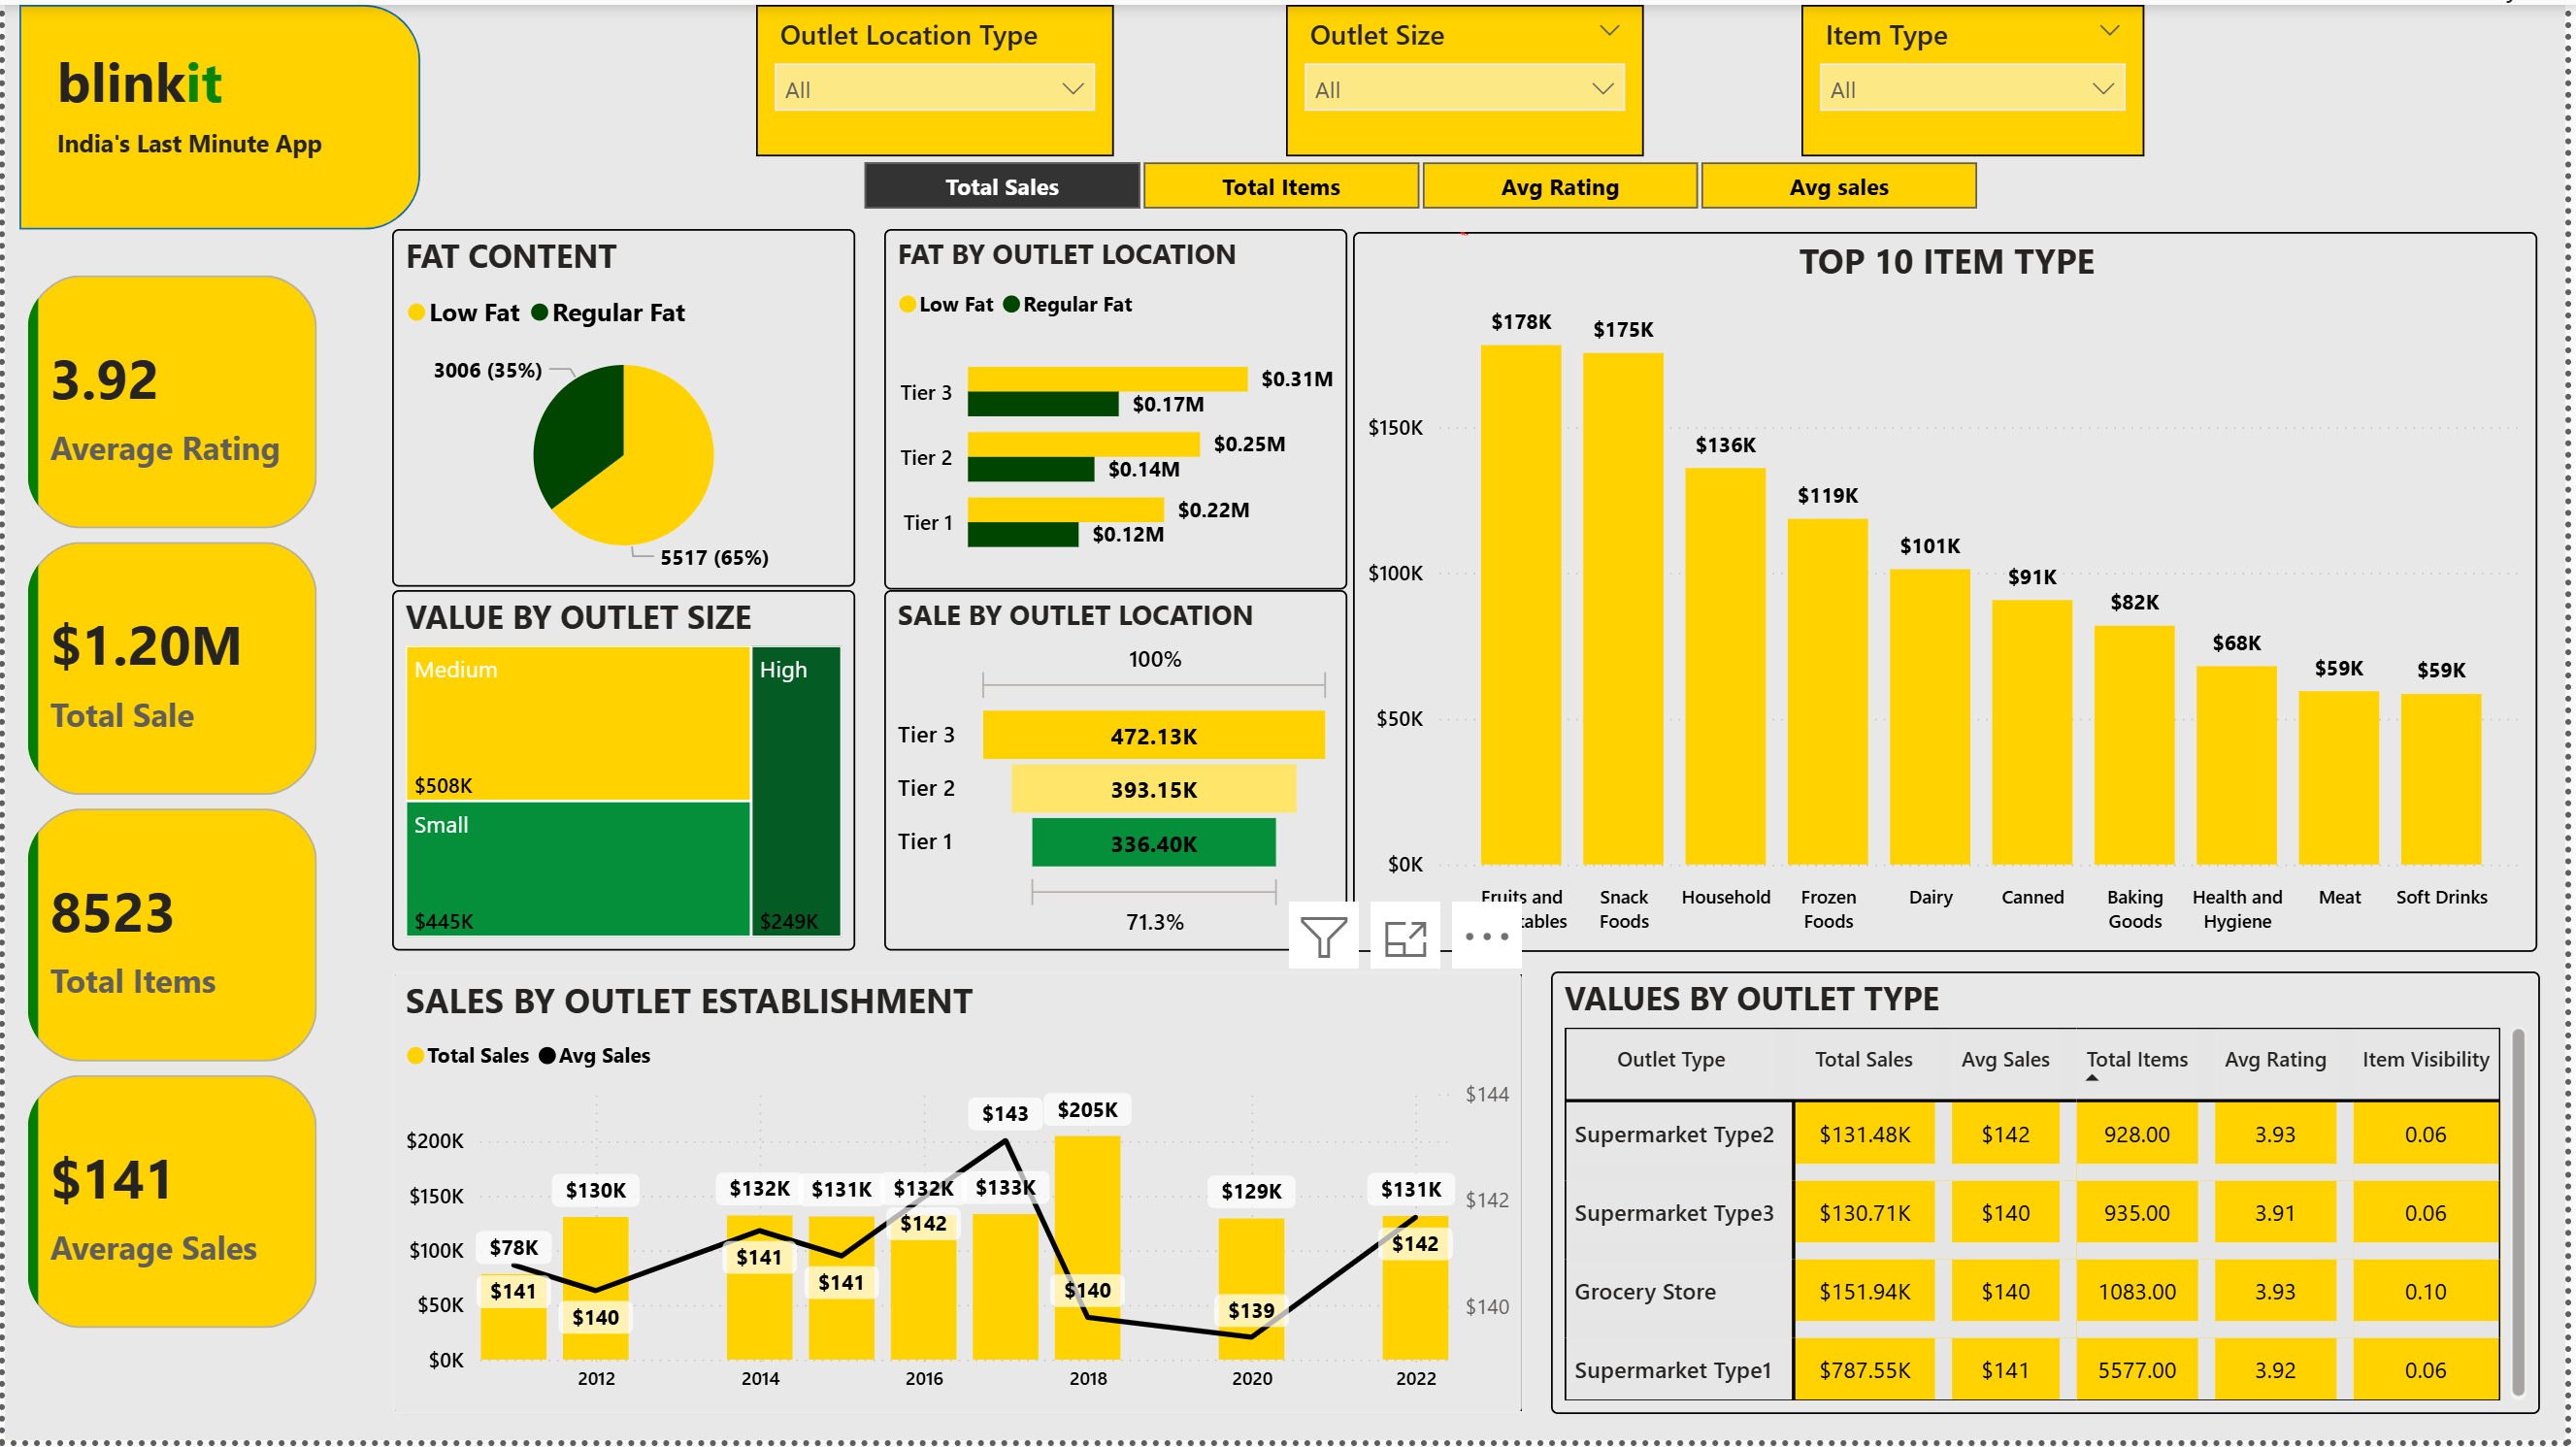

What the dashboard file says about the page in this screenshot:
{"tool":"powerbi","page":{"name":"Page 1","canvas":[1498,840],"ordinal":0},"visuals":[{"type":"shape","box":[8.9,0,234.6,131.5],"z":0},{"type":"textbox","box":[24.9,17.8,202.6,135.1],"z":1000},{"type":"textbox","box":[24.9,65.8,241.7,88.9],"z":2000},{"type":"slicer","fields":{"Values":["BlinkIT Grocery Data.Outlet_Location_Type"]},"box":[440.2,0,209.4,88.7],"z":3000},{"type":"slicer","fields":{"Values":["BlinkIT Grocery Data.Outlet_Size"]},"box":[749,0,209.4,88.7],"z":4000},{"type":"slicer","fields":{"Values":["BlinkIT Grocery Data.Item_Type"]},"box":[1050.7,0,200.6,88.7],"z":5000},{"type":"cardVisual","fields":{"Data":["BlinkIT Grocery Data.Avg_Rating","BlinkIT Grocery Data.SUM","BlinkIT Grocery Data.Total_items","BlinkIT Grocery Data.Avg_sales"]},"box":[8.9,152.8,179.5,629.1],"z":6000},{"type":"slicer","fields":{"Values":["Matrix .Matrix "]},"box":[477.4,85.2,701.1,40.8],"z":7000},{"type":"pieChart","title":"FAT CONTENT","fields":{"Y":["BlinkIT Grocery Data.Total_items"],"Category":["BlinkIT Grocery Data.Item_Fat_Content"]},"box":[227.2,131.4,271,209.3],"z":8000},{"type":"clusteredBarChart","title":"FAT BY OUTLET LOCATION ","fields":{"Y":["BlinkIT Grocery Data.SUM"],"Category":["BlinkIT Grocery Data.Outlet_Location_Type"],"Series":["BlinkIT Grocery Data.Item_Fat_Content"]},"box":[514.4,131.4,271,211],"z":9000},{"type":"treemap","title":"VALUE BY OUTLET SIZE ","fields":{"Values":["BlinkIT Grocery Data.SUM"],"Group":["BlinkIT Grocery Data.Outlet_Size"]},"box":[227.2,342.4,271,211],"z":10000},{"type":"funnel","title":"SALE BY OUTLET LOCATION","fields":{"Category":["BlinkIT Grocery Data.Outlet_Location_Type"],"Y":["Sum(BlinkIT Grocery Data.Total_Sales)"]},"box":[514.4,342.4,271,211],"z":11000},{"type":"clusteredColumnChart","title":"TOP 10 ITEM TYPE ","fields":{"Y":["BlinkIT Grocery Data.SUM"],"Category":["BlinkIT Grocery Data.Item_Type"]},"box":[789.1,133.3,693.1,421.2],"z":12000},{"type":"lineClusteredColumnComboChart","title":"SALES BY OUTLET ESTABLISHMENT ","fields":{"Category":["BlinkIT Grocery Data.Outlet_Establishment_Year"],"Y2":["BlinkIT Grocery Data.Avg_sales"],"Y":["BlinkIT Grocery Data.SUM"]},"box":[227.2,566.2,662,259.1],"z":13000},{"type":"pivotTable","title":"VALUES BY OUTLET TYPE","fields":{"Rows":["BlinkIT Grocery Data.Outlet_Type"],"Values":["BlinkIT Grocery Data.SUM","BlinkIT Grocery Data.Avg_sales","BlinkIT Grocery Data.Total_items","BlinkIT Grocery Data.Avg_Rating","Avg(BlinkIT Grocery Data.Item_Visibility)"]},"box":[905.2,566.2,578.6,259.1],"z":13001}]}

Visuals, with their boxes in screenshot pixels (x1, y1, x2, y2), scaled from the page's 1498x840 canvas onto the 2576x1447 screenshot:
shape: left=16, top=0, right=418, bottom=226
textbox: left=43, top=31, right=391, bottom=263
textbox: left=43, top=114, right=458, bottom=267
slicer - BlinkIT Grocery Data.Outlet_Location_Type: left=757, top=0, right=1117, bottom=152
slicer - BlinkIT Grocery Data.Outlet_Size: left=1288, top=0, right=1648, bottom=152
slicer - BlinkIT Grocery Data.Item_Type: left=1807, top=0, right=2152, bottom=152
cardVisual - BlinkIT Grocery Data.Avg_Rating x BlinkIT Grocery Data.SUM: left=16, top=263, right=324, bottom=1347
slicer - Matrix .Matrix : left=821, top=147, right=2027, bottom=217
"FAT CONTENT" pieChart: left=391, top=226, right=857, bottom=587
"FAT BY OUTLET LOCATION " clusteredBarChart: left=884, top=226, right=1350, bottom=590
"VALUE BY OUTLET SIZE " treemap: left=391, top=590, right=857, bottom=953
"SALE BY OUTLET LOCATION" funnel: left=884, top=590, right=1350, bottom=953
"TOP 10 ITEM TYPE " clusteredColumnChart: left=1357, top=230, right=2549, bottom=955
"SALES BY OUTLET ESTABLISHMENT " lineClusteredColumnComboChart: left=391, top=975, right=1529, bottom=1422
"VALUES BY OUTLET TYPE" pivotTable: left=1557, top=975, right=2552, bottom=1422
